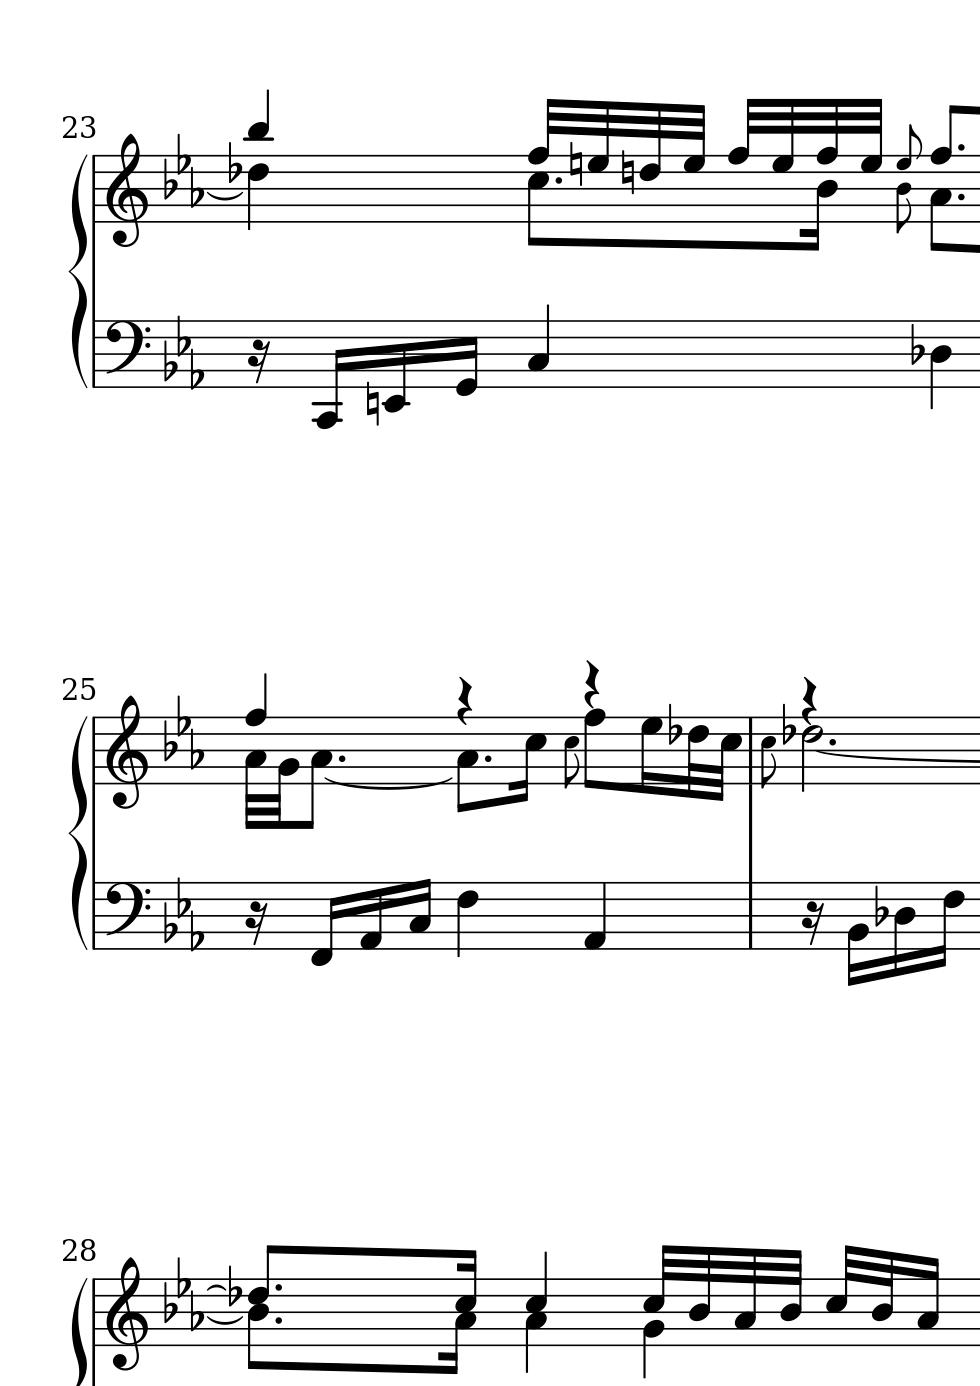16_-1: (308, 881, 340, 969)
16_-2: (381, 319, 407, 414)
16_-4: (310, 317, 348, 432)
16_0: (454, 319, 480, 398)
16_1: (357, 880, 384, 952)
16_2: (846, 880, 871, 986)
16_3: (302, 714, 333, 831), (915, 1256, 941, 1348), (407, 876, 432, 950)
16_3_5: (441, 1247, 478, 1376)
16_4: (869, 1248, 896, 1349), (890, 881, 916, 978)
16_5: (510, 715, 546, 806)
16_6: (931, 879, 966, 970)
16_7: (641, 714, 664, 799)
2: (60, 676, 78, 702), (60, 1236, 78, 1263), (62, 115, 78, 141)
3: (78, 115, 97, 141)
32_2: (270, 715, 299, 830)
32_3: (732, 1246, 758, 1347)
32_4: (687, 1243, 713, 1347), (778, 1247, 804, 1346)
32_5: (824, 1243, 856, 1348), (712, 716, 743, 801)
32_6: (637, 100, 662, 224), (685, 715, 708, 801)
32_7: (770, 97, 795, 221), (859, 94, 883, 222), (588, 100, 611, 225), (682, 102, 705, 225)
32_8: (727, 97, 758, 225)
4_1: (580, 881, 607, 952)
4_3: (526, 303, 552, 389)
4_3_5: (525, 1252, 550, 1375)
4_4: (928, 319, 952, 411)
4_6: (454, 880, 480, 959), (247, 153, 270, 231)
5: (78, 674, 97, 703)
8: (78, 1236, 97, 1263)
8_4_6: (246, 1244, 281, 1370)
8_6: (758, 716, 776, 791), (561, 717, 579, 791)
8_8: (582, 707, 605, 792)
E_F: (161, 314, 206, 391), (161, 131, 205, 209), (162, 875, 205, 953), (161, 694, 205, 770), (160, 1256, 204, 1332)
Fclef: (102, 318, 151, 389), (103, 880, 150, 951)
Flat: (907, 321, 924, 368), (225, 140, 241, 185), (665, 702, 681, 747), (780, 703, 795, 747), (225, 1264, 241, 1308), (874, 882, 889, 928)
Gclef: (104, 1255, 148, 1372), (104, 131, 148, 248), (104, 694, 147, 811)
Natural: (567, 139, 585, 189), (363, 379, 380, 427), (619, 148, 635, 198)
Rests16: (246, 338, 272, 385), (243, 899, 268, 946), (800, 899, 825, 946)
Rests4: (456, 676, 473, 727), (800, 677, 817, 729), (583, 657, 600, 708)
Single_barline: (741, 717, 759, 784), (742, 882, 758, 948), (88, 717, 102, 784), (88, 156, 101, 223), (89, 320, 101, 387), (89, 882, 101, 949), (89, 1278, 101, 1345)
Slur: (67, 150, 90, 389), (67, 712, 89, 952), (321, 776, 450, 791), (205, 190, 244, 203), (204, 1314, 244, 1324), (204, 1283, 227, 1293)
dot: (552, 175, 567, 189), (272, 1281, 285, 1295), (480, 752, 494, 765), (953, 141, 967, 153), (955, 191, 968, 203), (335, 751, 347, 765), (272, 1315, 284, 1327), (825, 736, 837, 747)
